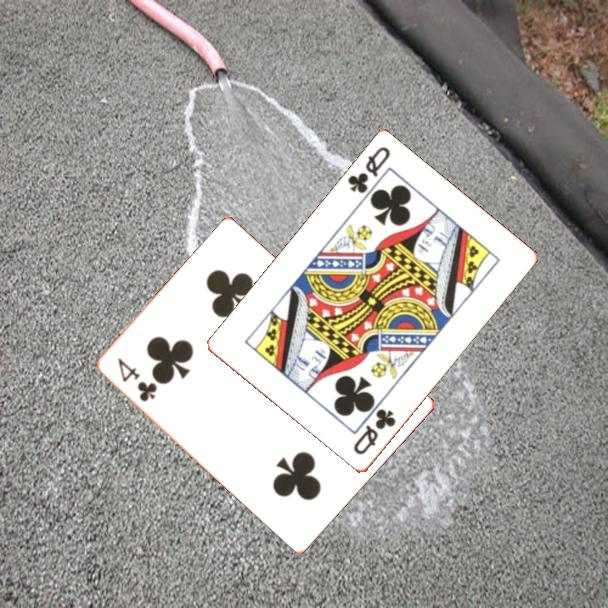c04: (114, 354, 160, 405)
c12: (344, 143, 393, 197), (350, 405, 399, 458)
